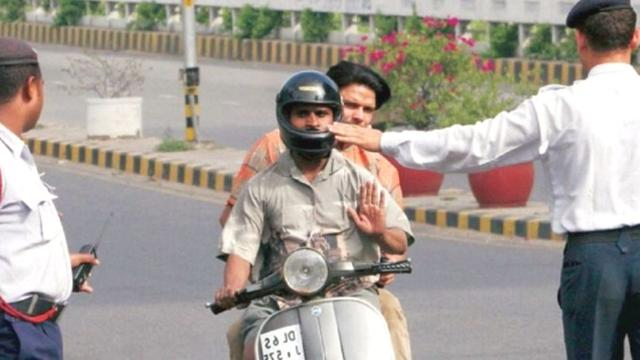licensePlate: (252, 315, 307, 360)
motorcycle: (217, 59, 418, 360)
withHelmet: (277, 79, 331, 157)
withoutHelmet: (334, 72, 388, 134)
